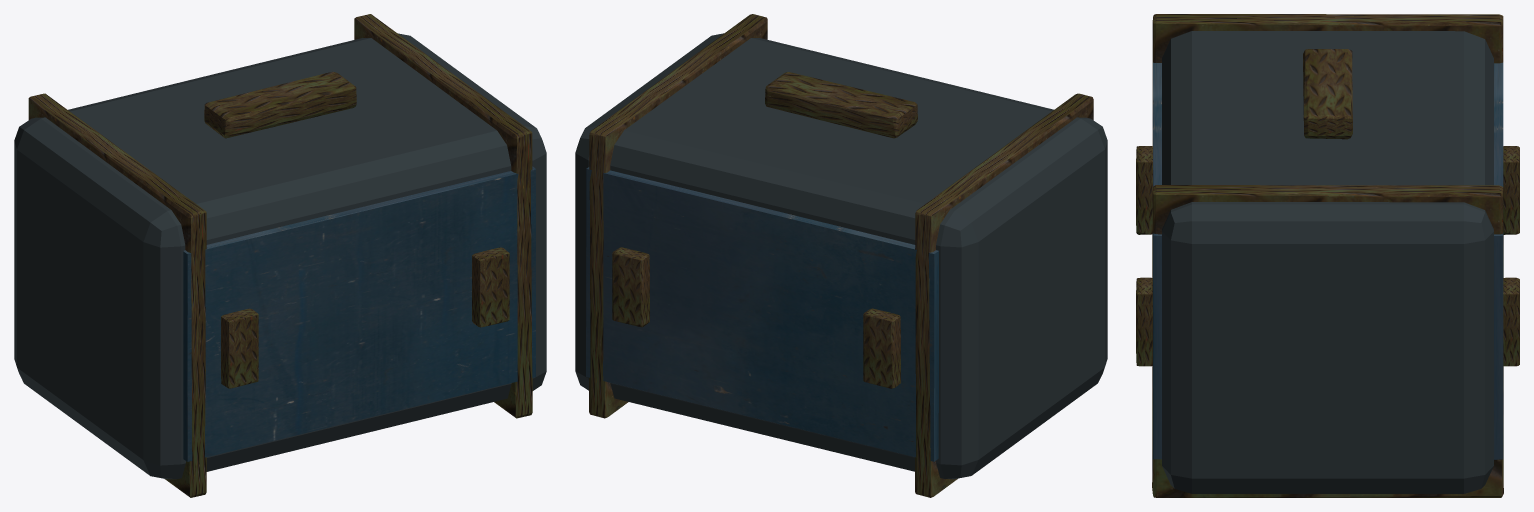
File: FieldCase_LOD1.fbx
The picture shows the model from 3 angles, left to right: view 1: azimuth 30°, elevation 25°; view 2: azimuth 150°, elevation 25°; view 3: azimuth 270°, elevation 25°; orthographic projection. The views are drawn at different scales.
Parts seen in each view (by area): view 1: FieldCase.001; view 2: FieldCase.001; view 3: FieldCase.001.
Boxes of the visible parts, x1=… form: FieldCase.001: x1=14, y1=14, x2=546, y2=497; FieldCase.001: x1=575, y1=14, x2=1107, y2=497; FieldCase.001: x1=1136, y1=14, x2=1519, y2=497.
Bounding box in the file's own units: 1.5 × 1.16 × 1.09.
